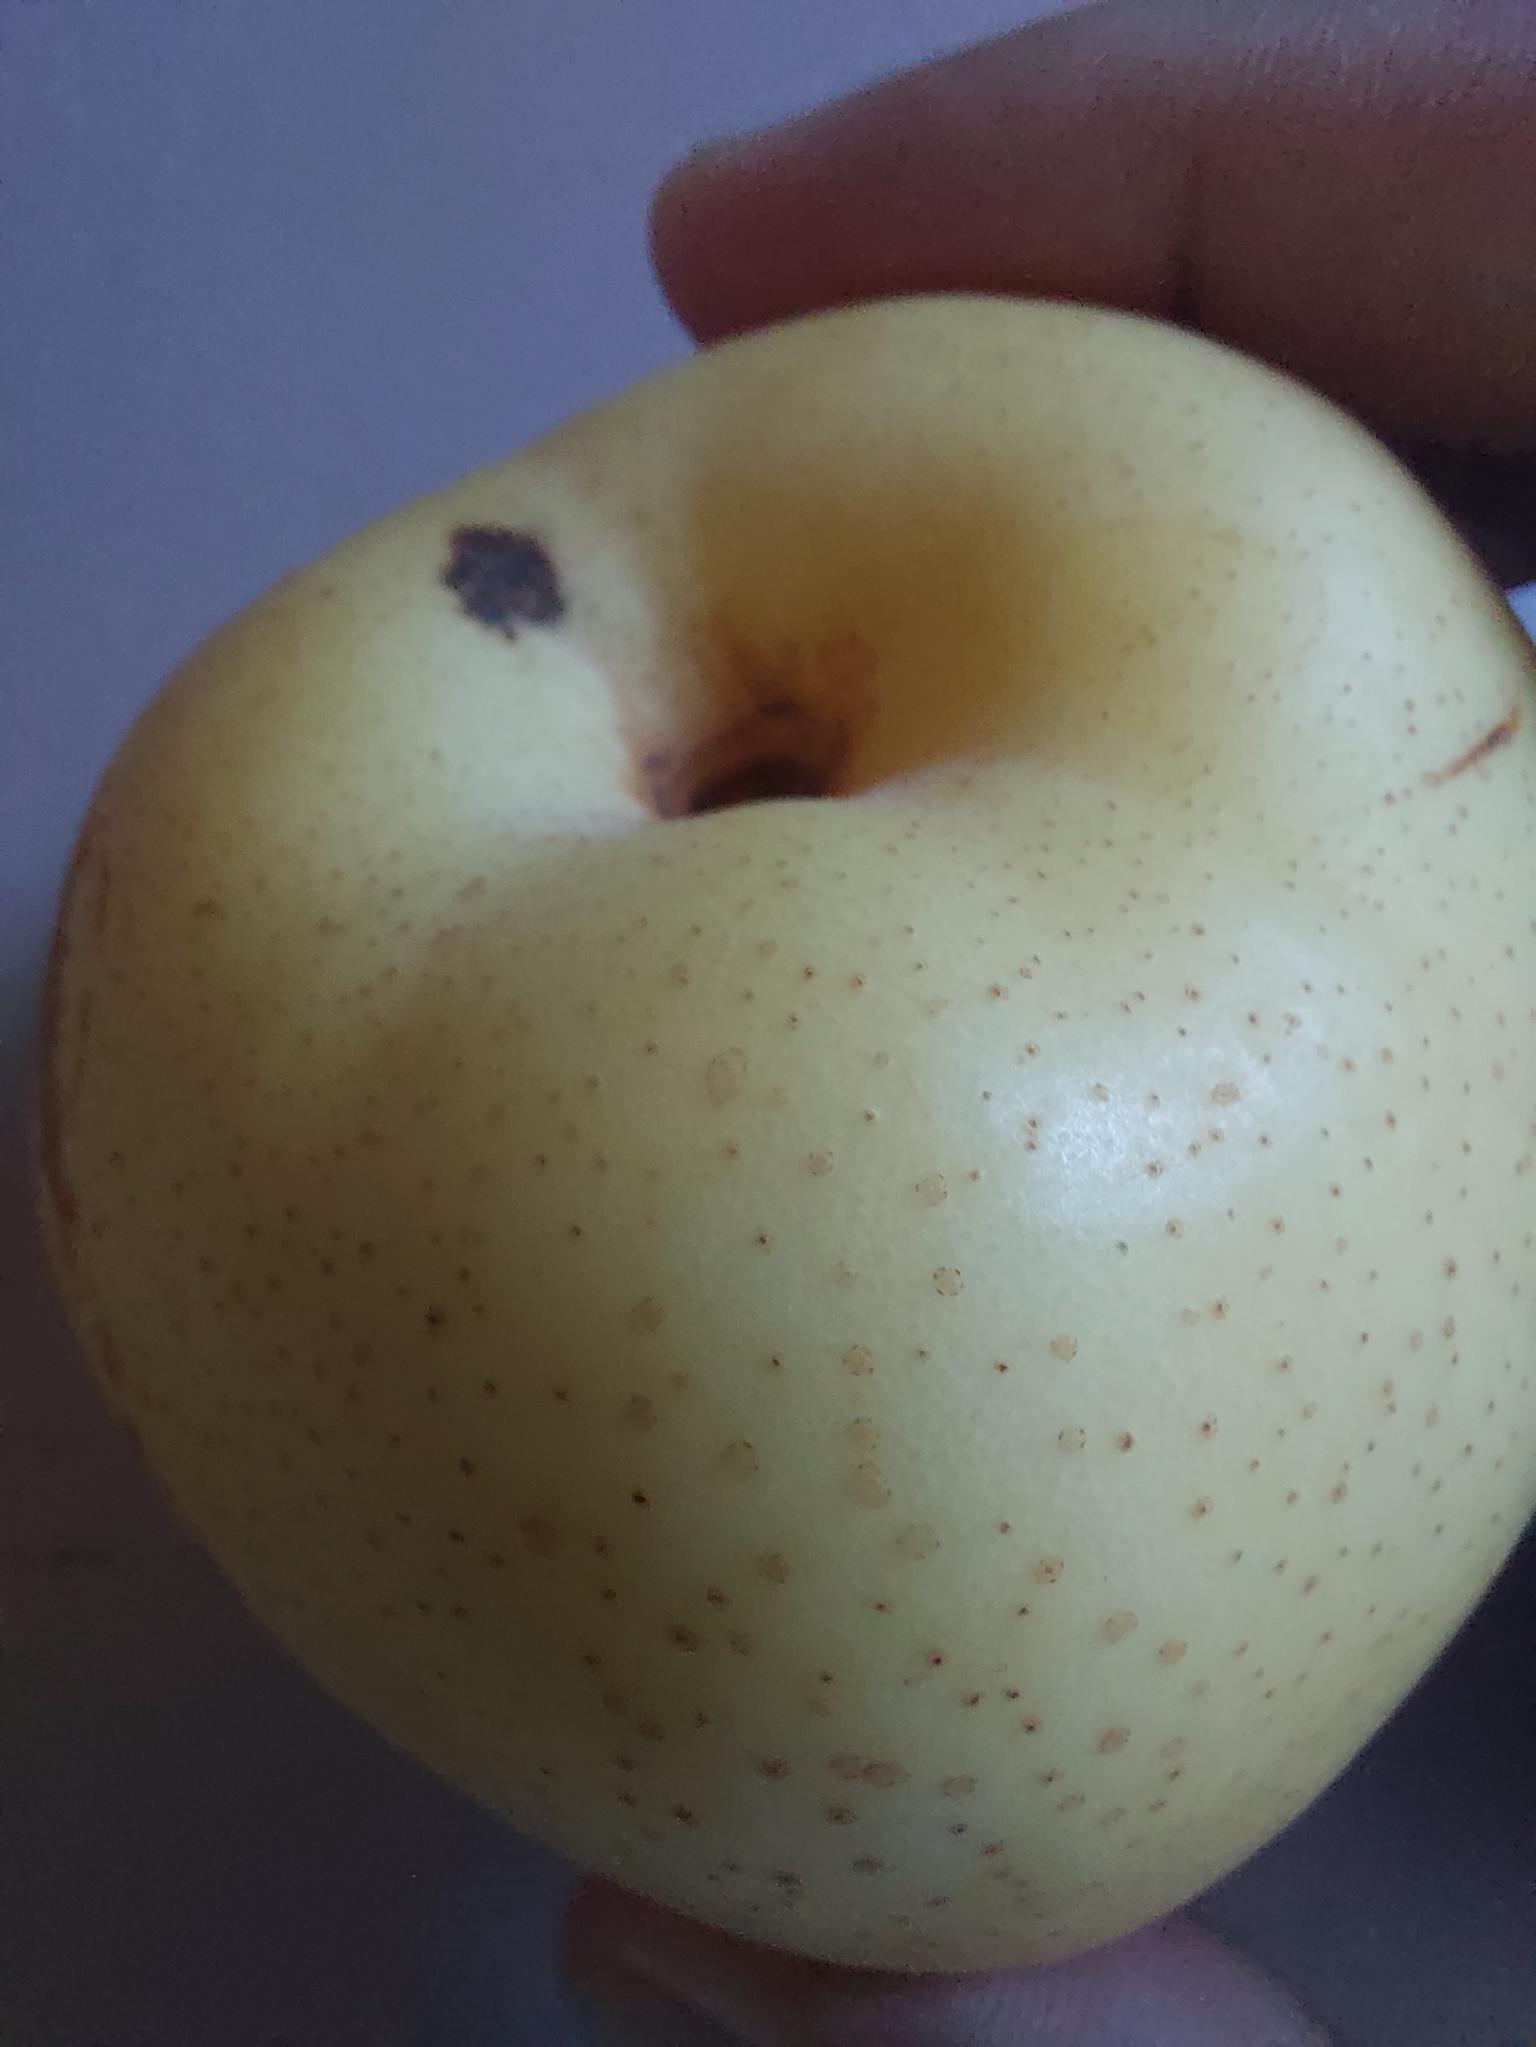Good Pear: (32, 299, 1536, 1973)
